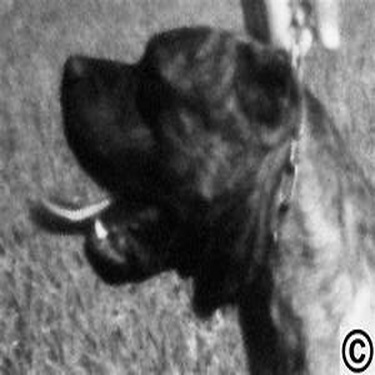dog: (19, 15, 372, 372)
